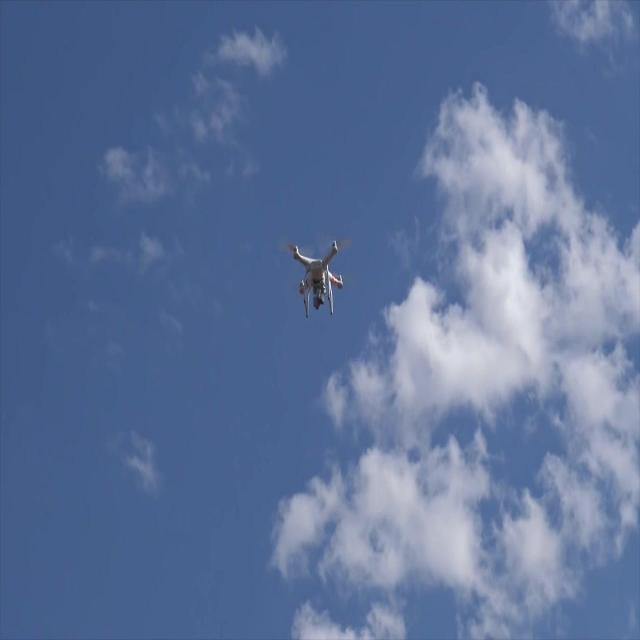UAV: (287, 238, 351, 319)
